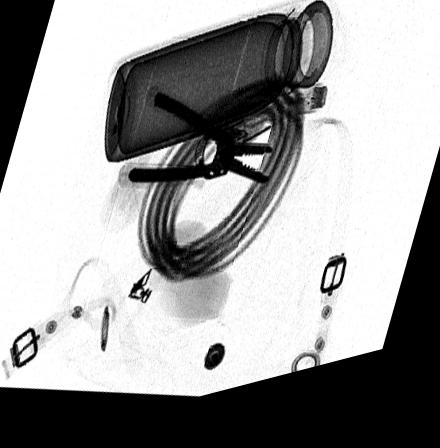Pliers: (126, 98, 275, 198)
